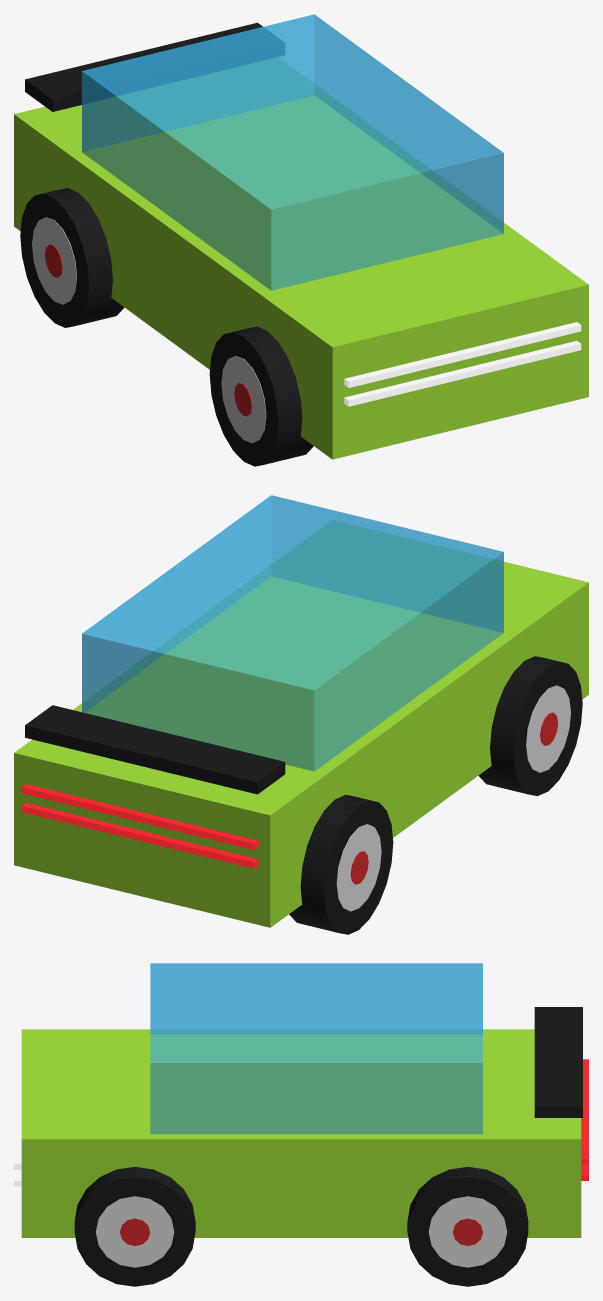
File: genesis_gv60.glb
3 renders of one model, top to bottom at view 1: azimuth 30°, elevation 25°; view 2: azimuth 150°, elevation 25°; view 3: azimuth 270°, elevation 25°, orthographic. The views are drawn at different scales.
Size of the model in its own units: 0.5413 by 0.4 by 1.
